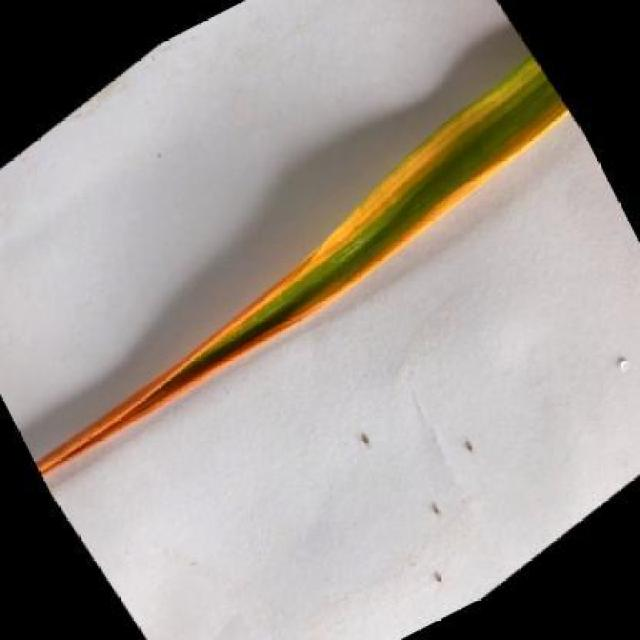Rice False Smut: (0, 48, 614, 483)
